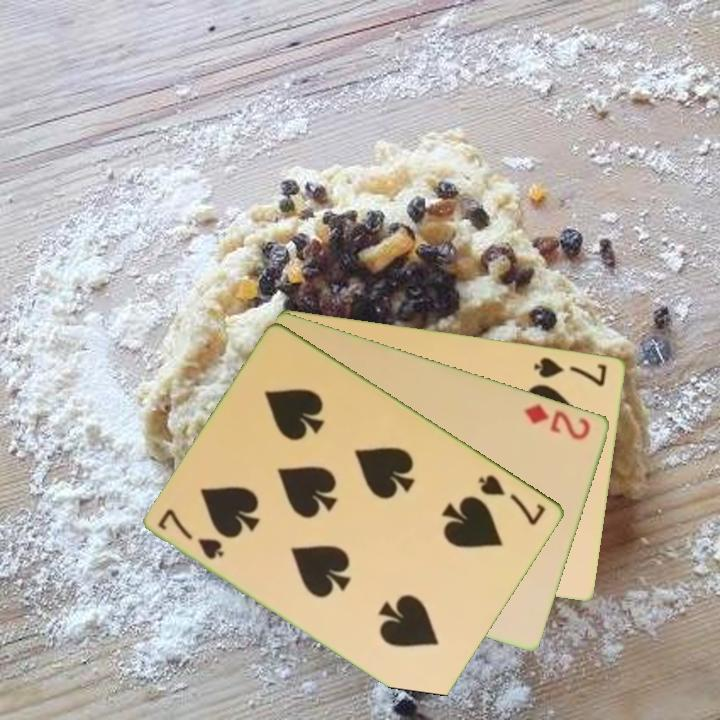2d: (520, 400, 594, 443)
7s: (475, 470, 550, 529), (154, 505, 228, 563), (531, 353, 610, 389)
